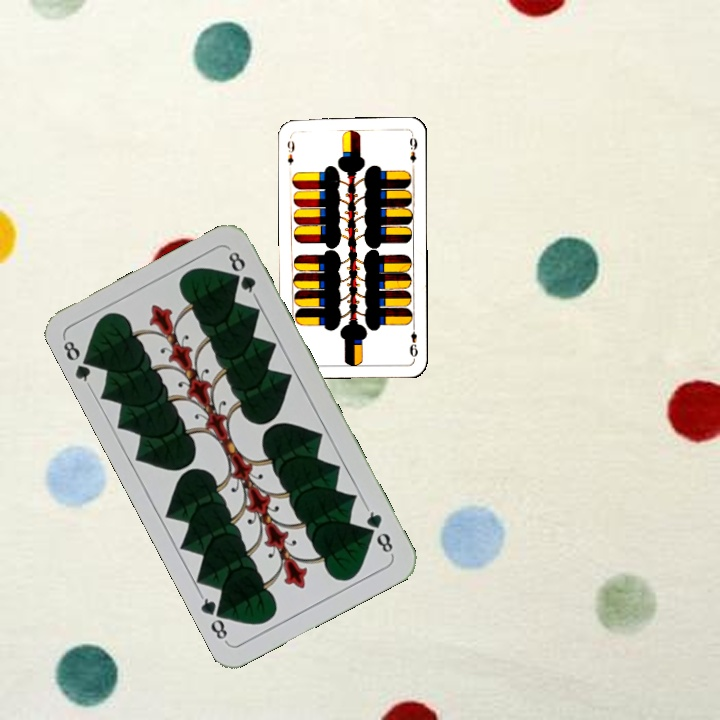E9: (406, 321, 420, 359), (283, 133, 297, 168)
G8: (59, 334, 99, 390), (361, 503, 396, 558)
